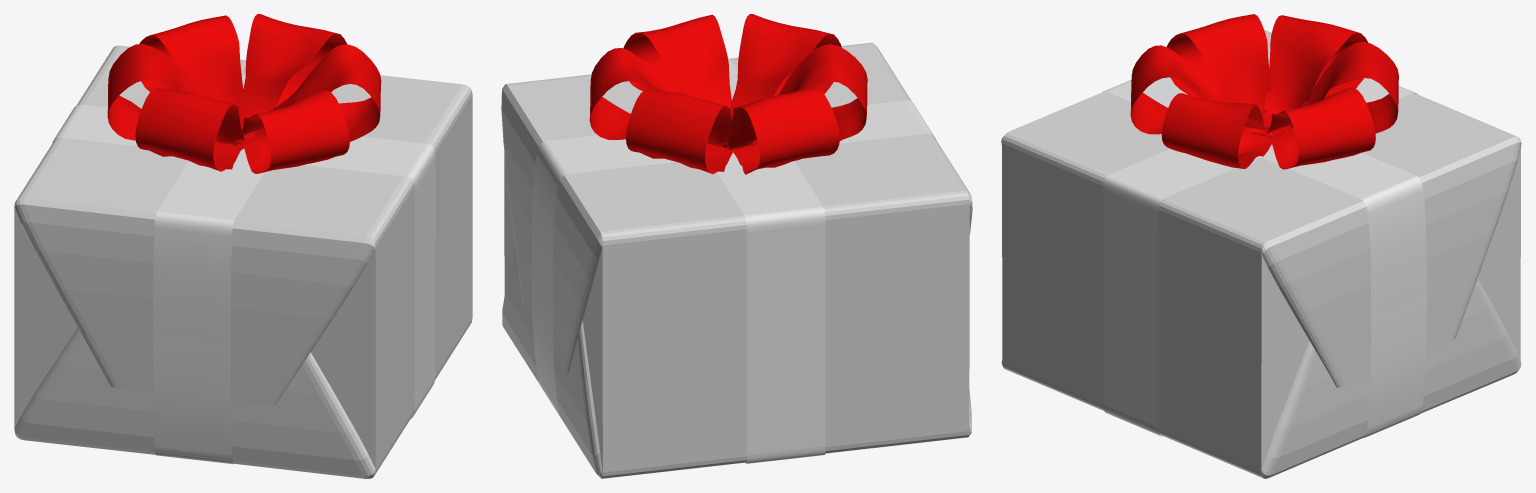
3 views of the same model, side by side, from view 1: azimuth 30°, elevation 25°; view 2: azimuth 150°, elevation 25°; view 3: azimuth 270°, elevation 25° (orthographic). The views are drawn at different scales.
Parts seen in each view (by area): view 1: christmas_gifts:Box001, christmas_gifts:Line001, christmas_gifts:Circle008, christmas_gifts:Circle002, christmas_gifts:Line003, christmas_gifts:Circle006; view 2: christmas_gifts:Box001, christmas_gifts:Line003, christmas_gifts:Circle006, christmas_gifts:Circle002, christmas_gifts:Line001, christmas_gifts:Circle008; view 3: christmas_gifts:Box001, christmas_gifts:Line001, christmas_gifts:Line003, christmas_gifts:Circle008, christmas_gifts:Circle006, christmas_gifts:Circle002.
Part boxes in pixels (<box>): christmas_gifts:Box001: <box>14,45,472,478</box>; christmas_gifts:Line001: <box>153,72,264,464</box>; christmas_gifts:Circle008: <box>135,14,347,171</box>; christmas_gifts:Circle002: <box>139,15,349,173</box>; christmas_gifts:Line003: <box>52,105,435,418</box>; christmas_gifts:Circle006: <box>107,44,381,142</box>; christmas_gifts:Box001: <box>501,42,972,478</box>; christmas_gifts:Line003: <box>717,57,825,463</box>; christmas_gifts:Circle006: <box>623,14,839,174</box>; christmas_gifts:Circle002: <box>626,14,841,174</box>; christmas_gifts:Line001: <box>532,100,935,414</box>; christmas_gifts:Circle008: <box>589,44,867,144</box>; christmas_gifts:Box001: <box>1001,29,1521,478</box>; christmas_gifts:Line001: <box>1103,77,1426,438</box>; christmas_gifts:Line003: <box>1103,78,1417,436</box>; christmas_gifts:Circle008: <box>1167,14,1375,169</box>; christmas_gifts:Circle006: <box>1161,15,1368,168</box>; christmas_gifts:Circle002: <box>1130,41,1398,134</box>.
Size of the model in its own units: 497 by 331 by 497.
